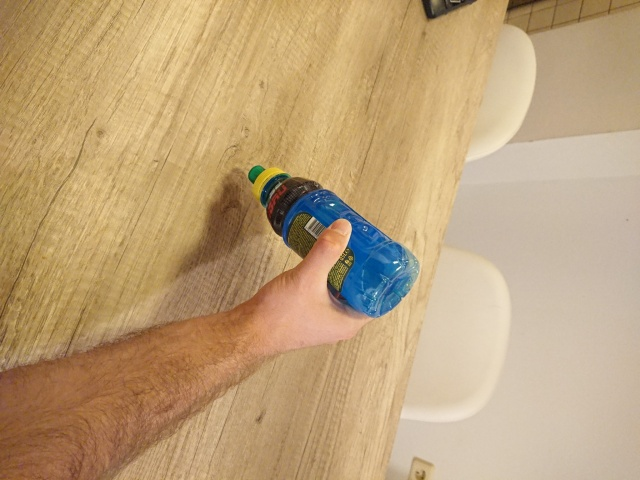Vindi Iso Sport Forest Strawberries 500mL: (245, 163, 422, 320)
